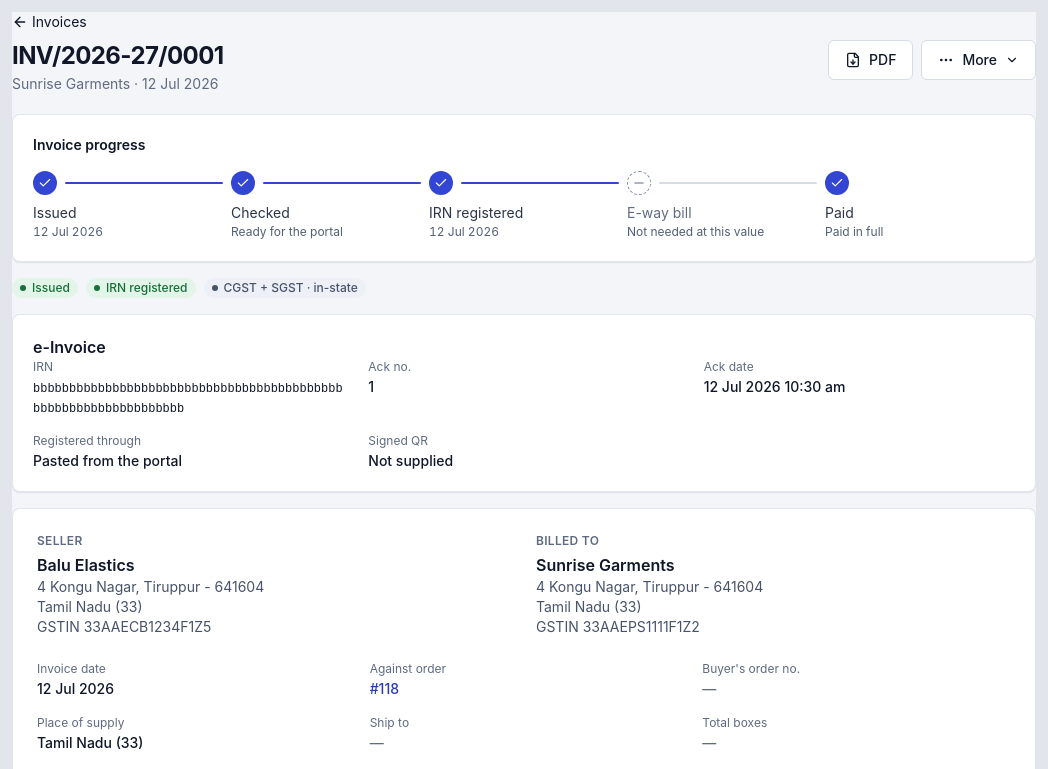
Test: the invoice leads with its next step › and nothing leads once it is paid; receipts stay under More
The image size is (1048, 769).
Expected: the button "Record receipt…" is not shown
Click the button "More": (979, 60) [921, 40, 1036, 80]
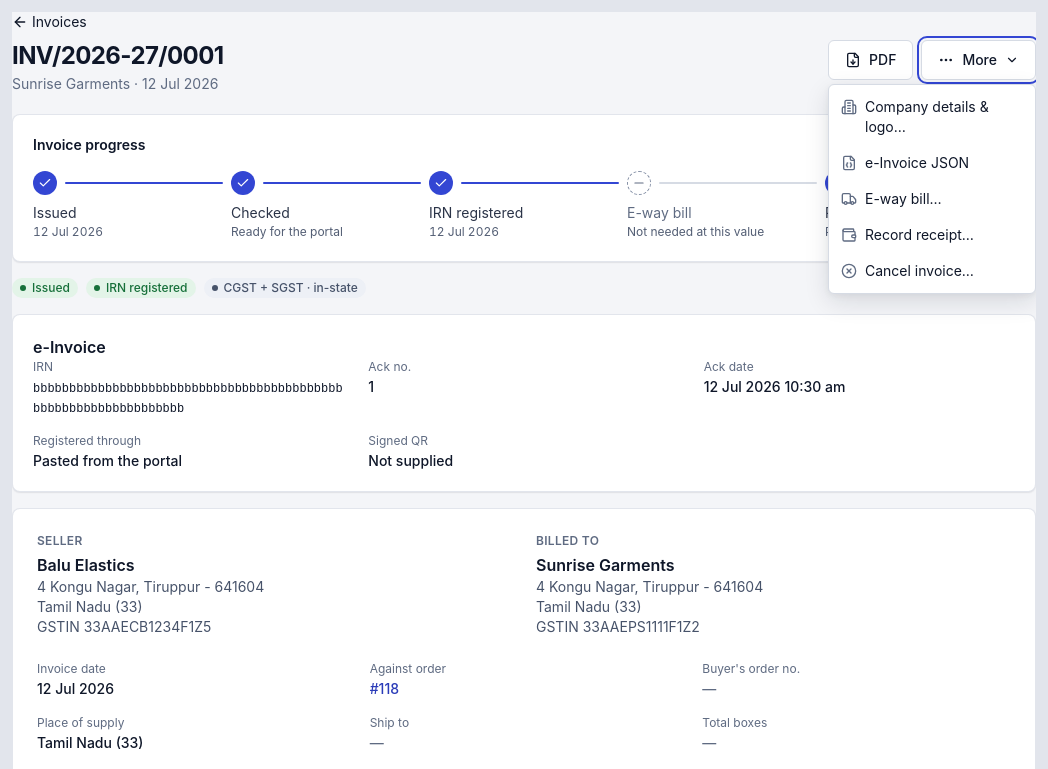
Expected: the menu item "Record receipt…" is shown, [829, 217, 1035, 253]
Expected: the menu item "E-way bill…" is shown, [829, 181, 1035, 217]
